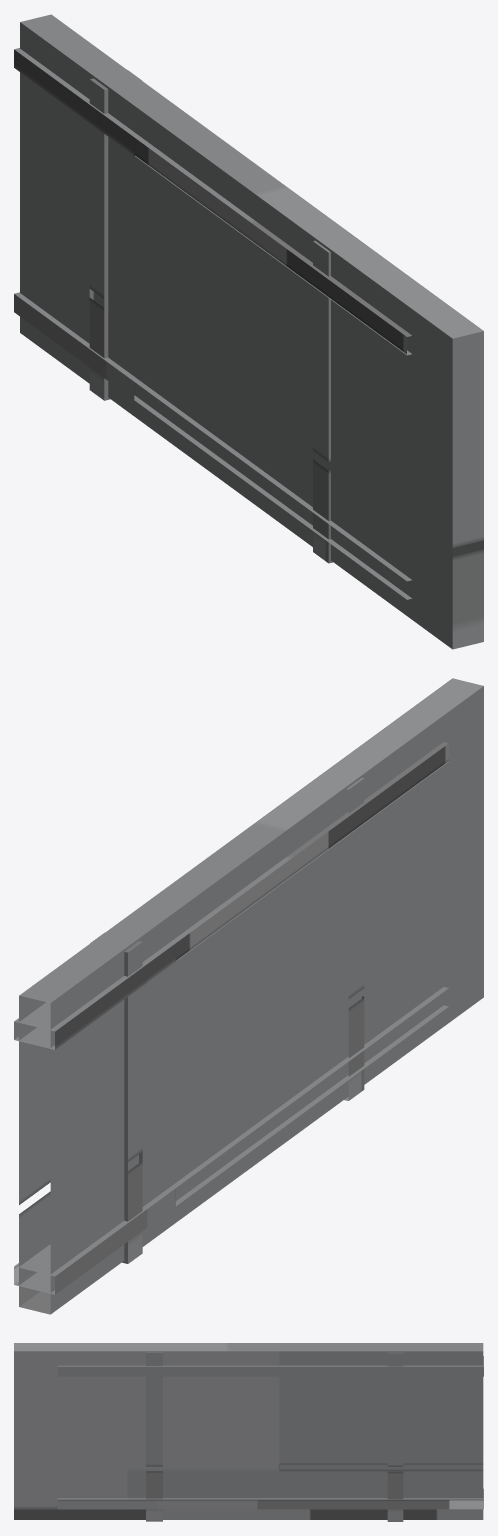
The picture shows the model from 3 angles, top to bottom: view 1: azimuth 30°, elevation 25°; view 2: azimuth 150°, elevation 25°; view 3: azimuth 270°, elevation 25°; orthographic projection. The views are drawn at different scales.
Size of the model in its own units: 0.117 by 0.7604 by 1.91.
